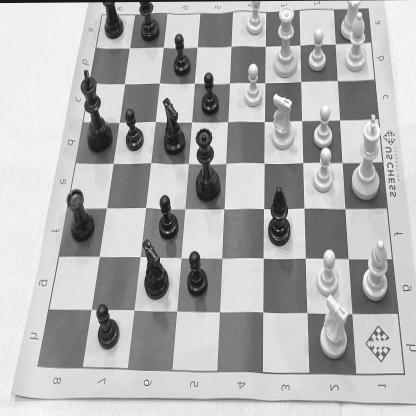black-bishop: (265, 182, 293, 248), (136, 2, 160, 42)
black-king: (80, 65, 115, 155)
black-knight: (139, 234, 170, 302), (160, 94, 186, 158)
black-pawn: (96, 300, 122, 352), (157, 192, 181, 242), (170, 29, 193, 79), (198, 70, 221, 116), (186, 248, 207, 298), (124, 106, 145, 154)
black-queen: (193, 126, 222, 204)
black-rook: (66, 183, 97, 243), (100, 2, 124, 43)
white-bishop: (360, 236, 392, 304), (344, 10, 368, 74)
white-king: (347, 110, 385, 202)
white-knight: (318, 292, 349, 361), (268, 90, 297, 154)
white-pawn: (311, 145, 336, 197), (316, 246, 340, 296), (242, 60, 264, 110), (306, 25, 328, 73), (312, 102, 334, 149), (243, 1, 267, 39)
white-queen: (271, 3, 299, 80)
white-rook: (339, 0, 363, 42)
